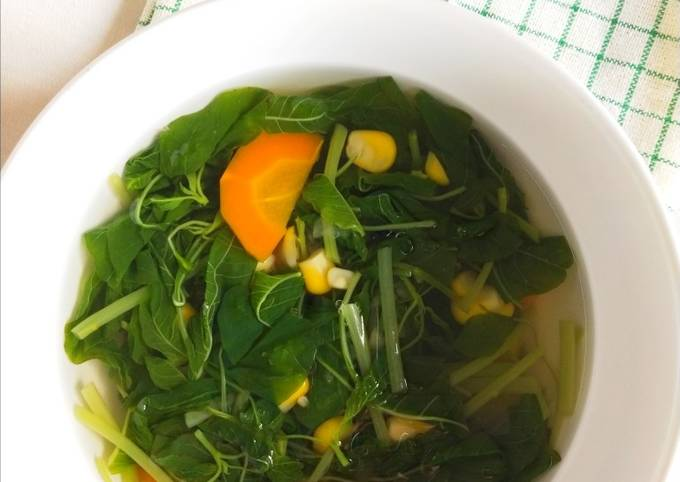Sayur Bayam: (88, 69, 564, 482)
